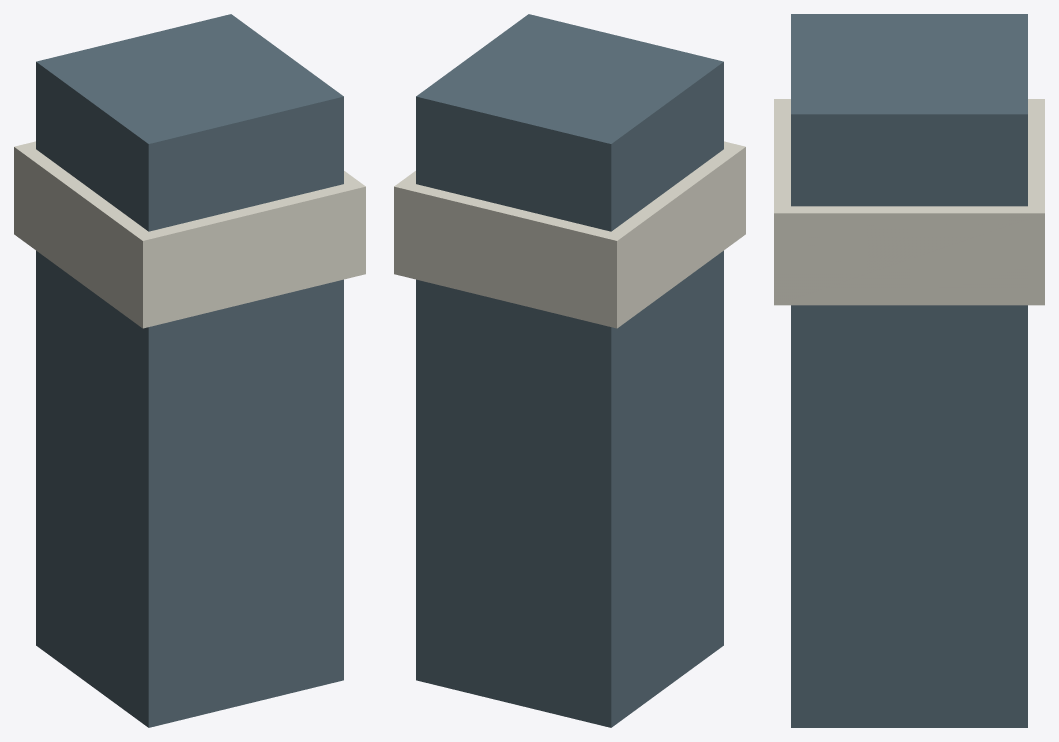
Rendered from voxel-city-districts-bollard-4e19587e.glb.
3 views of the same model, side by side, from view 1: azimuth 30°, elevation 25°; view 2: azimuth 150°, elevation 25°; view 3: azimuth 270°, elevation 25° (orthographic). The views are drawn at different scales.
Visible parts, largest first — view 1: bollard-dark, bollard-concrete; view 2: bollard-dark, bollard-concrete; view 3: bollard-dark, bollard-concrete.
Boxes of the visible parts, box(x1,y1,x2,y2) form: bollard-dark: box(36, 14, 343, 727); bollard-concrete: box(14, 141, 365, 328); bollard-dark: box(416, 14, 723, 727); bollard-concrete: box(394, 141, 745, 328); bollard-dark: box(791, 14, 1027, 727); bollard-concrete: box(774, 99, 1044, 305).
Size of the model in its own units: 0.4 by 1 by 0.4.
